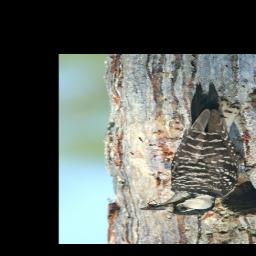Woodpecker: (138, 79, 256, 216)
